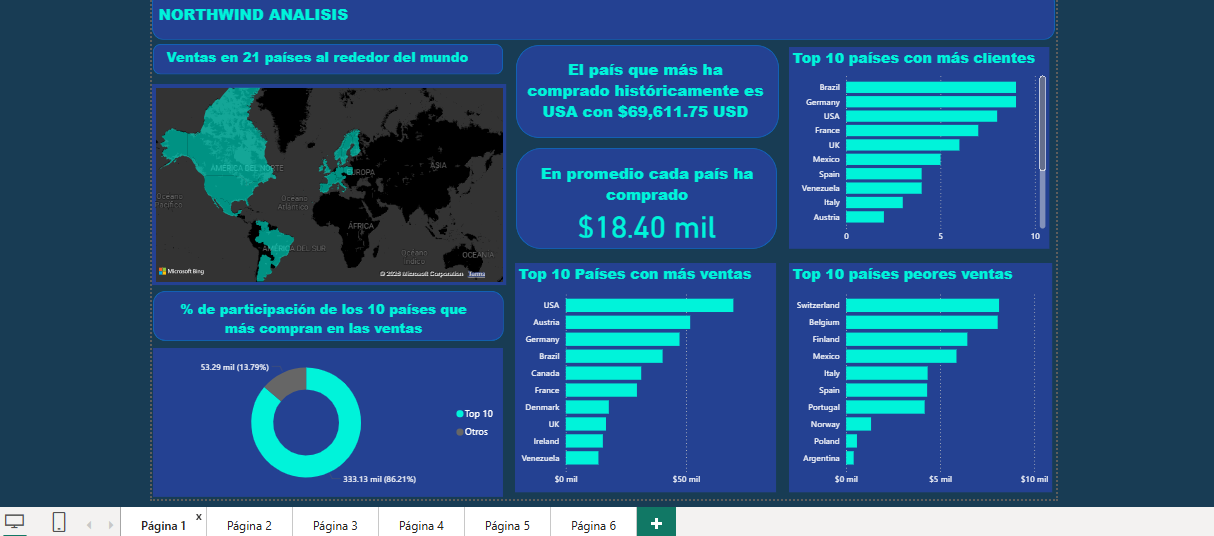

The dashboard page shown, as its layout file describes it:
{"tool":"powerbi","page":{"name":"Página 1","canvas":[1280,720],"ordinal":0},"visuals":[{"type":"group","id":"g1","title":"Grupo 1","box":[0,0,1279.8,69.4],"z":0},{"type":"shape","box":[0,0,1279.8,69.4],"z":0,"group":"g1"},{"type":"shape","box":[1.4,75.1,496.1,43.3],"z":0,"group":"g2"},{"type":"shape","box":[515.9,76.5,372.8,131.8],"z":0,"group":"g4"},{"type":"shape","box":[515.9,222.5,369.9,143.1],"z":0,"group":"g5"},{"type":"shape","box":[1.4,425.2,497.5,70.6],"z":0,"group":"g3"},{"type":"textbox","box":[4.3,12.8,1269.9,45.4],"z":1000,"group":"g1"},{"type":"group","id":"g2","title":"Grupo 2","box":[1.4,75.1,496.1,43.9],"z":1000},{"type":"textbox","box":[15.2,75.7,471.3,43.3],"z":1000,"group":"g2"},{"type":"textbox","box":[525,91.1,349.6,103.1],"z":1000,"group":"g4"},{"type":"card","title":"En promedio cada país ha comprado","fields":{"Values":["Avg(Ventas_pais.Monto)"]},"box":[529.4,243.2,343,111.3],"z":1000,"group":"g5"},{"type":"textbox","box":[14.8,432.5,457.8,63.5],"z":1000,"group":"g3"},{"type":"filledMap","fields":{"Category":["Ventas_pais.País"]},"box":[0,131.8,501.7,284.9],"z":2000},{"type":"clusteredBarChart","title":"Top 10 Países con más ventas","fields":{"Y":["Sum(Ventas_pais.Monto)"],"Category":["Ventas_pais.País"]},"box":[514.5,385.5,369.9,324.6],"z":3000},{"type":"clusteredBarChart","title":"Top 10 países peores ventas","fields":{"Category":["Ventas_pais.País"],"Y":["Sum(Ventas_pais.Monto)"]},"box":[902.8,385.5,372.8,324.6],"z":5000},{"type":"group","id":"g3","title":"Grupo 2","box":[1.4,425.2,497.5,70.9],"z":8000},{"type":"donutChart","fields":{"Category":["Tabla_Leyenda.Grupo"],"Y":["Tabla_Leyenda.Ventas para Grafico"]},"box":[1.4,506,496.1,211.2],"z":9000},{"type":"clusteredBarChart","title":"Top 10 países con más clientes","fields":{"Category":["Ventas_pais.País"],"Y":["Sum(Ventas_pais.NúmeroDeClientes)"]},"box":[902.8,79.4,368.5,286.3],"z":10000},{"type":"group","id":"g4","title":"Grupo 2","box":[515.9,76.5,372.8,131.8],"z":11000},{"type":"group","id":"g5","title":"Grupo 3","box":[515.9,222.5,369.9,143.1],"z":12000}]}

Visuals, with their boxes on the page's 1280x720 design canvas (x1, y1, x2, y2). These are canvas units, not pixel positions in the 1214x536 screenshot, which may show the page scaled, cropped or inside an application window:
"Grupo 1" group: 0, 0, 1280, 69
shape: 0, 0, 1280, 69
shape: 1, 75, 498, 118
shape: 516, 76, 889, 208
shape: 516, 222, 886, 366
shape: 1, 425, 499, 496
textbox: 4, 13, 1274, 58
"Grupo 2" group: 1, 75, 498, 119
textbox: 15, 76, 486, 119
textbox: 525, 91, 875, 194
"En promedio cada país ha comprado" card: 529, 243, 872, 354
textbox: 15, 432, 473, 496
filledMap - Ventas_pais.País: 0, 132, 502, 417
"Top 10 Países con más ventas" clusteredBarChart: 514, 386, 884, 710
"Top 10 países peores ventas" clusteredBarChart: 903, 386, 1276, 710
"Grupo 2" group: 1, 425, 499, 496
donutChart - Tabla_Leyenda.Grupo x Tabla_Leyenda.Ventas para Grafico: 1, 506, 498, 717
"Top 10 países con más clientes" clusteredBarChart: 903, 79, 1271, 366
"Grupo 2" group: 516, 76, 889, 208
"Grupo 3" group: 516, 222, 886, 366
